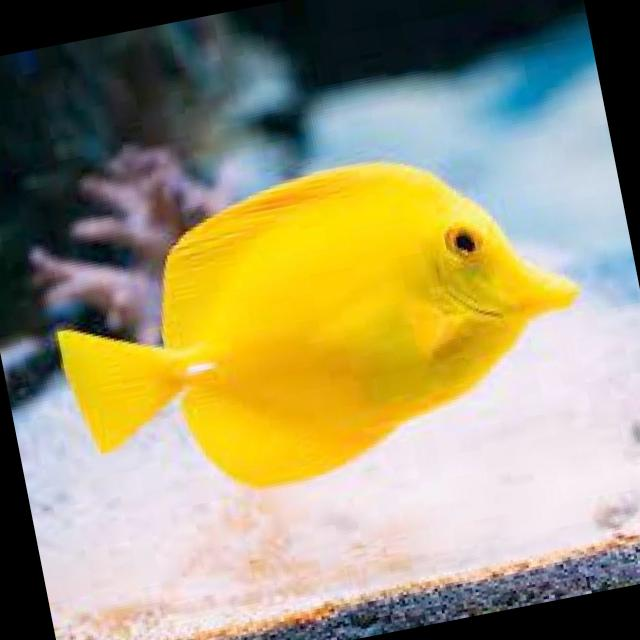TangFish: (32, 122, 609, 526)
